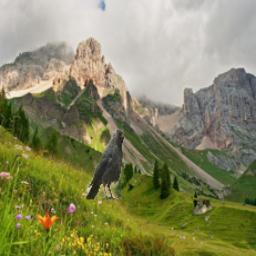Crow: (84, 129, 124, 199)
